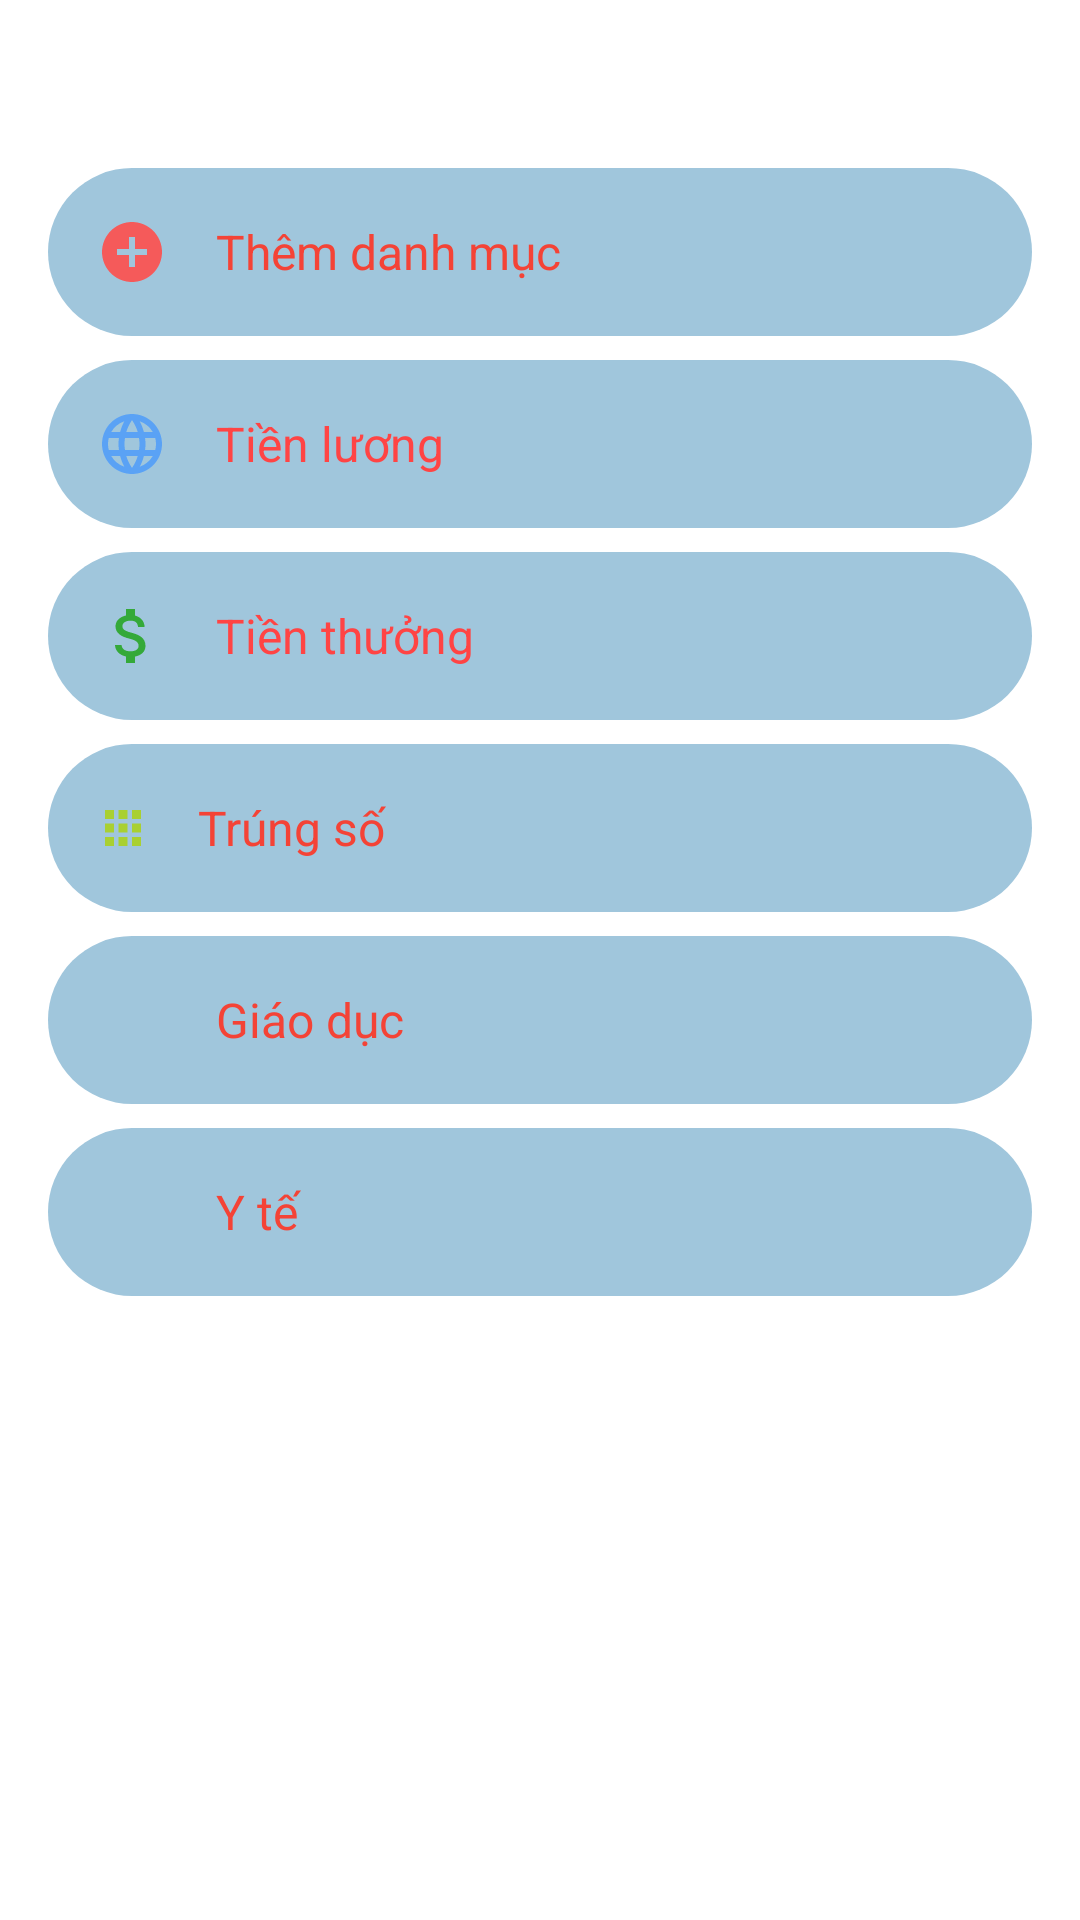

Icon bounding boxes for this 1080w x 1920h phone screenshot, format (x1, y1, x2, y2):
add: (102, 222, 162, 282)
app: (105, 810, 141, 846)
language: (102, 414, 162, 474)
money: (115, 609, 146, 663)
